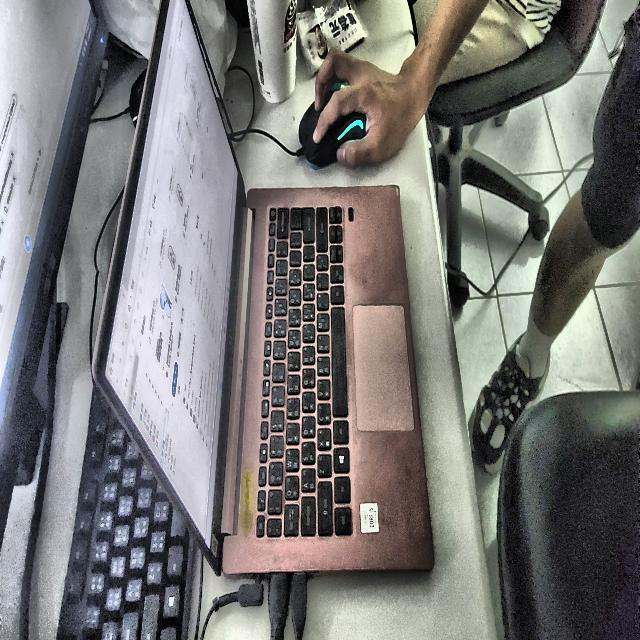laptop: (93, 0, 433, 574)
